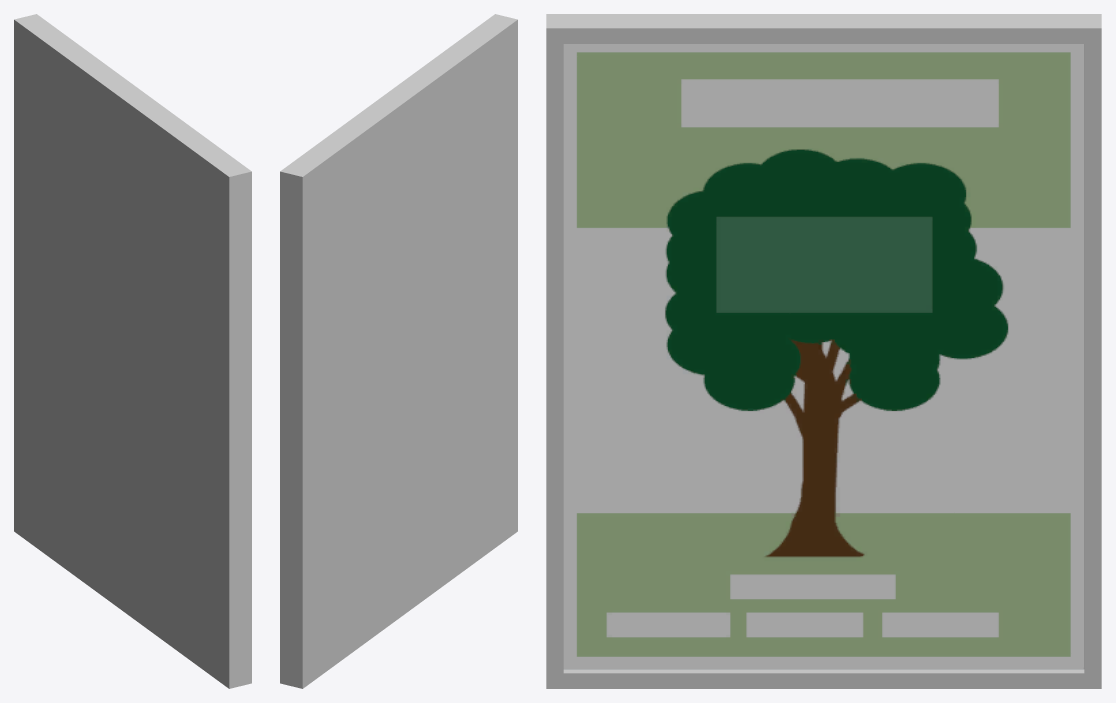
Rendered from SM_HospitalPoster_04.obj.
The picture shows the model from 3 angles, left to right: view 1: azimuth 30°, elevation 25°; view 2: azimuth 150°, elevation 25°; view 3: azimuth 270°, elevation 25°; orthographic projection. The views are drawn at different scales.
Visible parts, largest first — view 1: SM_HospitalPoster_04_MI_ColorPalette; view 2: SM_HospitalPoster_04_MI_ColorPalette; view 3: SM_HospitalPoster_04_MI_HospitalPosters, SM_HospitalPoster_04_MI_ColorPalette.
Boxes of the visible parts, x1,y1,x2,y2 form: SM_HospitalPoster_04_MI_ColorPalette: [14, 14, 251, 688]; SM_HospitalPoster_04_MI_ColorPalette: [280, 14, 517, 688]; SM_HospitalPoster_04_MI_HospitalPosters: [563, 44, 1084, 669]; SM_HospitalPoster_04_MI_ColorPalette: [546, 14, 1101, 688].
Size of the model in its own units: 0.0488 by 1.05 by 0.8006.
Materials: 2 (1 with a texture image).
